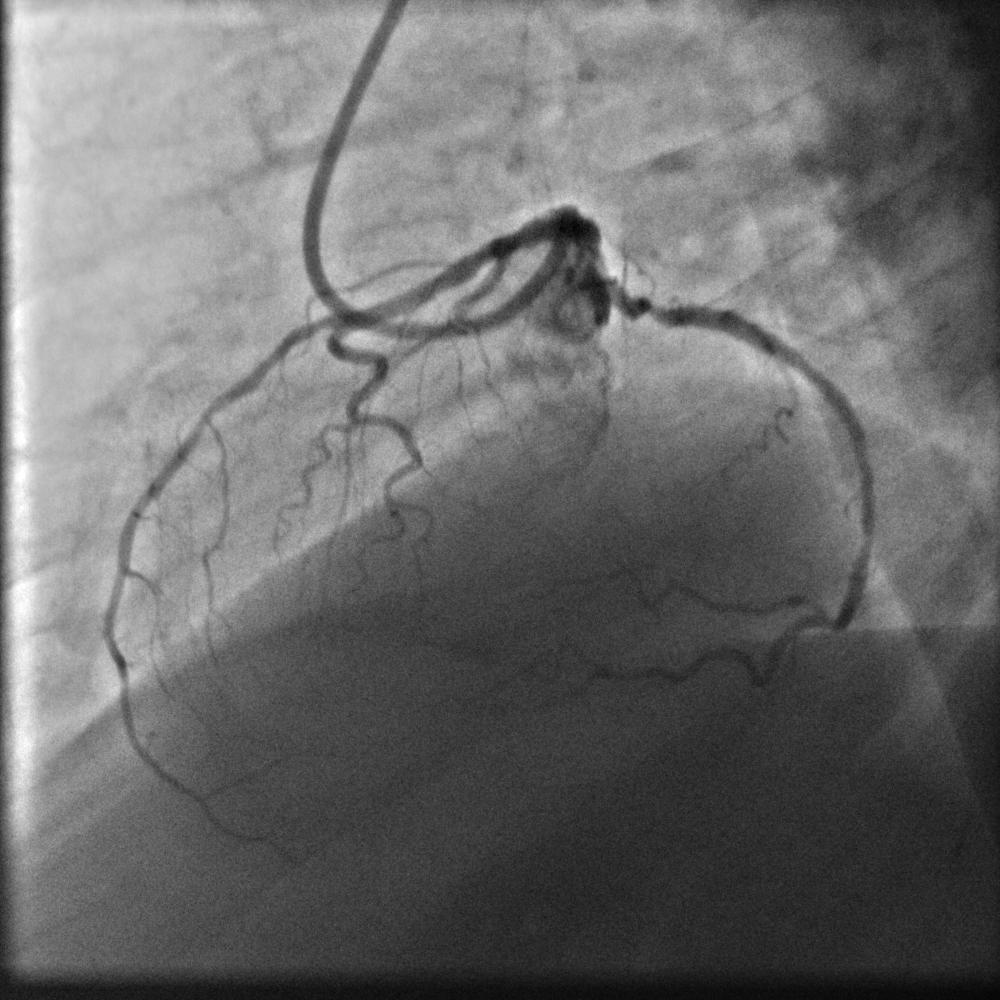Stenosis: (646, 296, 666, 324)
